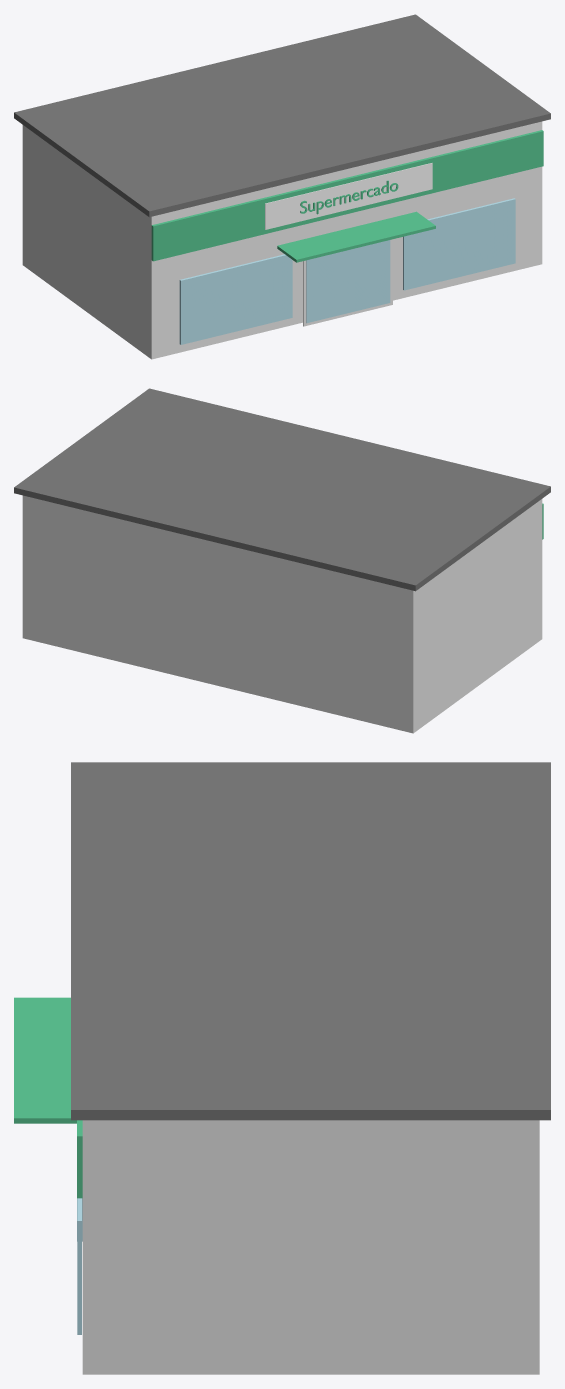
The model's file is Mercado.fbx.
The picture shows the model from 3 angles, top to bottom: view 1: azimuth 30°, elevation 25°; view 2: azimuth 150°, elevation 25°; view 3: azimuth 270°, elevation 25°; orthographic projection. The views are drawn at different scales.
Visible parts, largest first — view 1: Edificio_Supermercado; view 2: Edificio_Supermercado; view 3: Edificio_Supermercado.
Boxes of the visible parts, left/top/right/bottom form: Edificio_Supermercado: left=14, top=14, right=550, bottom=359; Edificio_Supermercado: left=14, top=388, right=550, bottom=733; Edificio_Supermercado: left=14, top=762, right=550, bottom=1374.
Size of the model in its own units: 1440 by 530 by 940.
